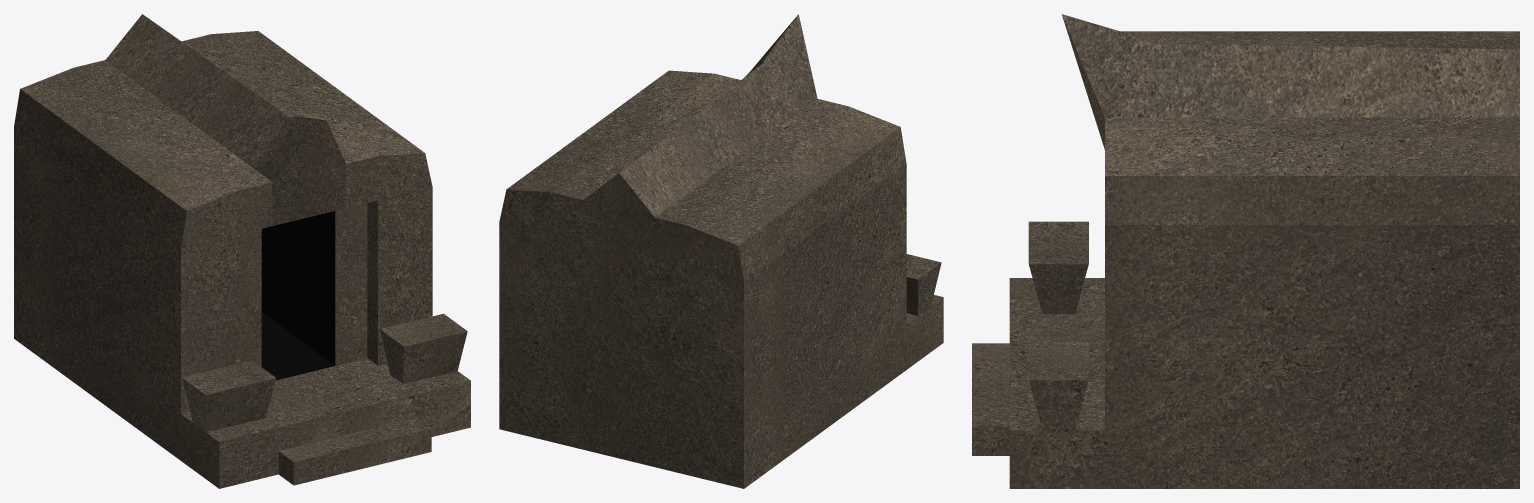
Rendered from biggrave.fbx.
3 views of the same model, side by side, from view 1: azimuth 30°, elevation 25°; view 2: azimuth 150°, elevation 25°; view 3: azimuth 270°, elevation 25° (orthographic). The views are drawn at different scales.
Visible parts, largest first — view 1: Cube.041; view 2: Cube.041; view 3: Cube.041.
Boxes of the visible parts, left/top/right/bottom form: Cube.041: left=14, top=14, right=470, bottom=488; Cube.041: left=499, top=14, right=943, bottom=488; Cube.041: left=972, top=14, right=1519, bottom=488.
Size of the model in its own units: 890 by 1046 by 1298.
